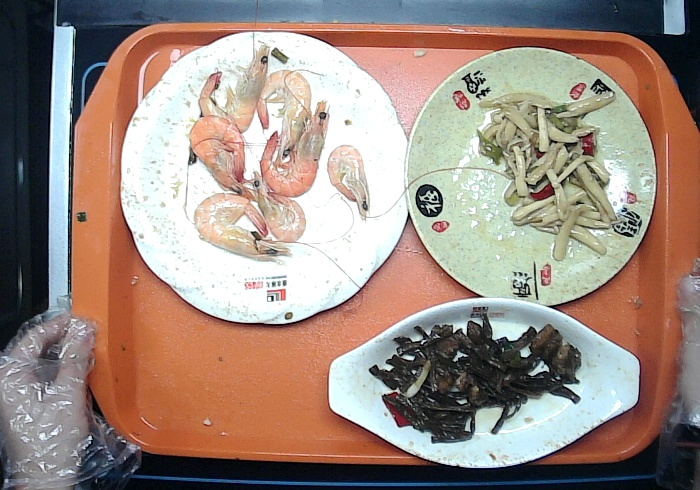NLDX-Bai_Zhe_Yuan_Pan: (116, 28, 418, 328)
NLDX-Fu_Zi_Yuan_Pan: (401, 39, 661, 311)
NLDX-Yu_Pan: (322, 293, 647, 476)
